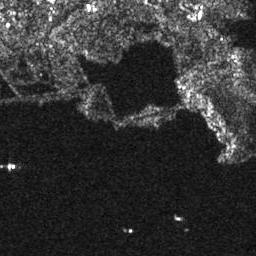ship: (7, 162, 15, 171), (173, 215, 183, 222)
